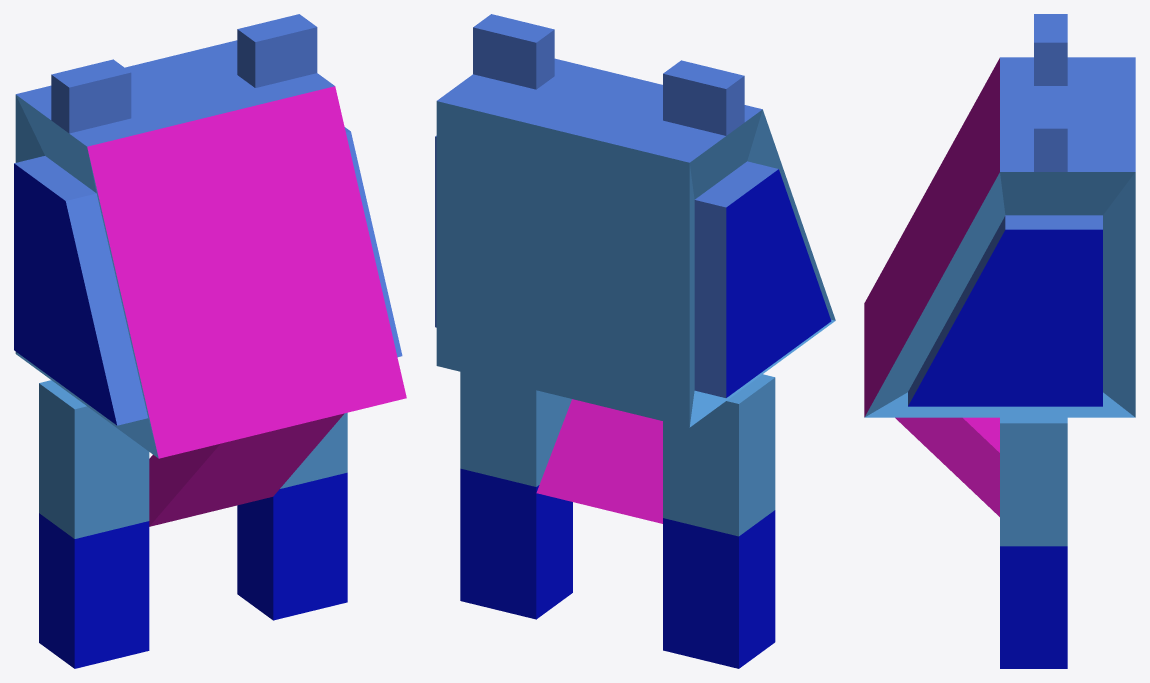
The model's file is Lukrenk Model.fbx.
The picture shows the model from 3 angles, left to right: view 1: azimuth 30°, elevation 25°; view 2: azimuth 150°, elevation 25°; view 3: azimuth 270°, elevation 25°; orthographic projection. The views are drawn at different scales.
Visible parts, largest first — view 1: Cube; view 2: Cube; view 3: Cube.
Boxes of the visible parts, x1=… form: Cube: x1=14, y1=14, x2=406, y2=668; Cube: x1=435, y1=14, x2=835, y2=668; Cube: x1=864, y1=14, x2=1135, y2=668.
Size of the model in its own units: 230 by 435 by 200.
